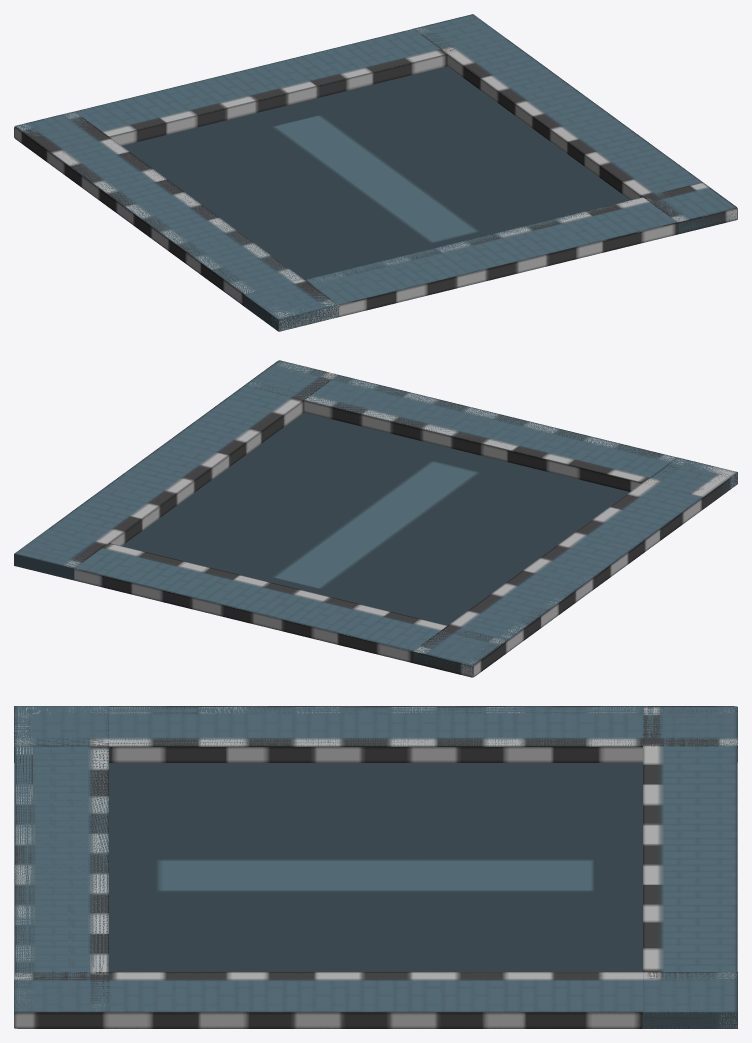
File: roads.fbx
3 views of the same model, one above another, from view 1: azimuth 30°, elevation 25°; view 2: azimuth 150°, elevation 25°; view 3: azimuth 270°, elevation 25° (orthographic). The views are drawn at different scales.
Parts seen in each view (by area): view 1: plane, group, group2, mesh_1, mesh, group3; view 2: plane, group, group2, group3, mesh, mesh_1; view 3: plane, group, group2, group3, mesh, mesh_1.
Part boxes in pixels (x1,y1,x2,y2): plane: (113,60,629,279); group: (16,14,737,233); group2: (14,112,737,331); mesh_1: (14,112,338,329); mesh: (413,14,737,228); group3: (14,119,737,331); plane: (74,412,629,650); group: (14,360,506,677); group2: (246,360,737,676); group3: (245,361,737,677); mesh: (15,360,335,570); mesh_1: (413,458,737,676); plane: (14,763,642,1028); group: (14,706,737,1028); group2: (14,706,737,1028); group3: (14,706,737,1011); mesh: (14,972,737,1028); mesh_1: (14,706,737,746).
Bounding box in the file's own units: 1001 × 25 × 1000.
1 material, 1 textured.
